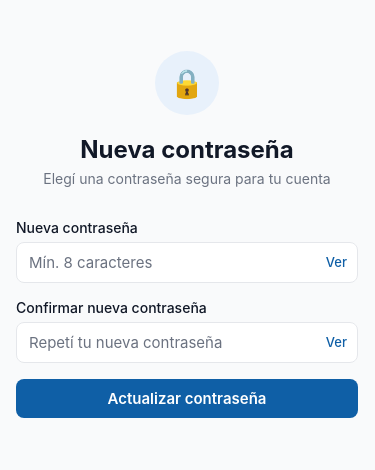
ResetPasswordScreen › shows error for short password
Click the text "Actualizar contraseña" at (187, 398), box [108,388,266,408]
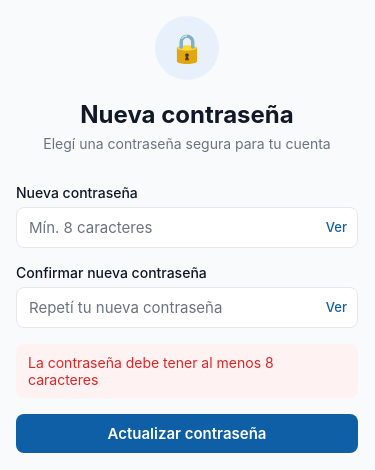
Expected: the text "La contraseña debe tener al menos 8 caracteres" is shown, [28,354,278,388]
